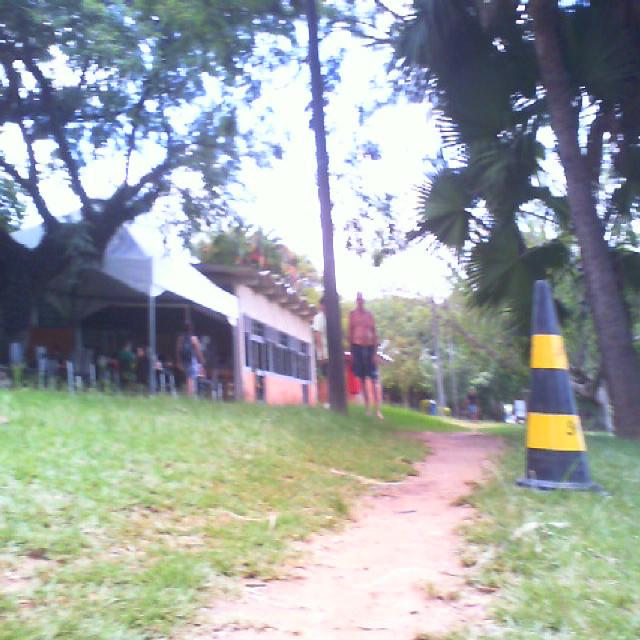cone: (514, 279, 602, 493)
